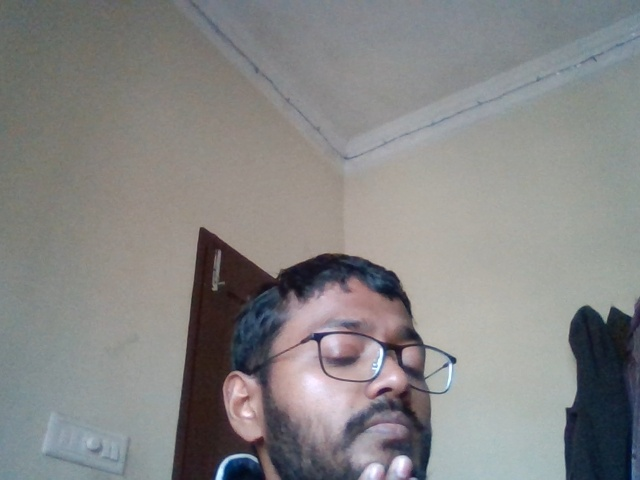thanks: (356, 448, 431, 480)
